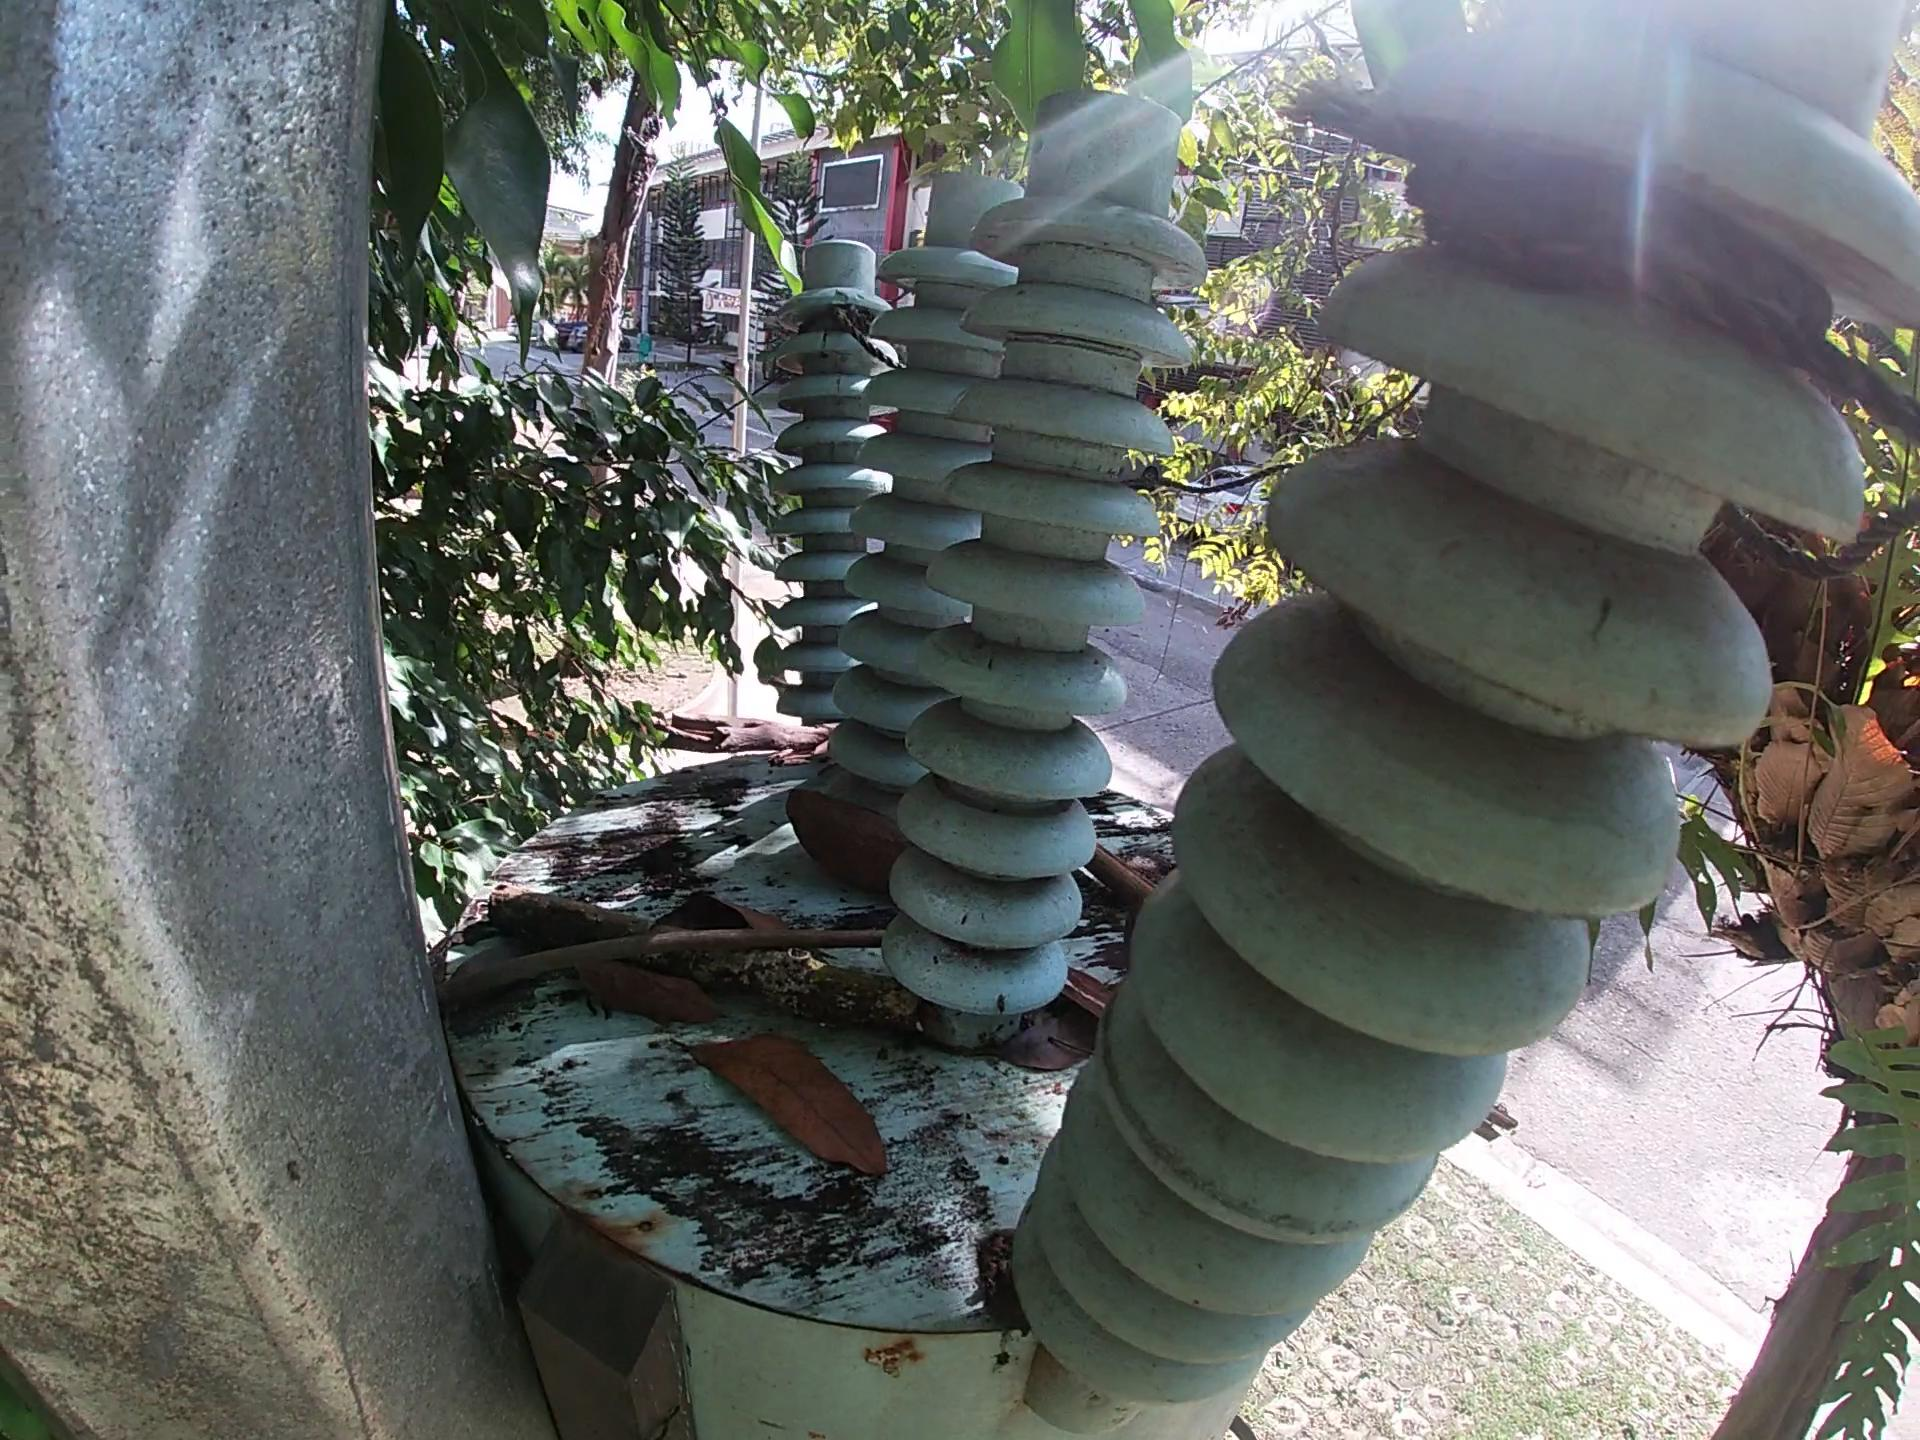leaf: (674, 1029, 898, 1183), (643, 892, 839, 967), (571, 951, 729, 1029), (983, 1012, 1107, 1085)
mahogany fruit: (782, 787, 916, 895)
tree branch: (484, 891, 927, 1035), (420, 927, 898, 1018), (653, 705, 842, 767), (1084, 839, 1154, 911)
